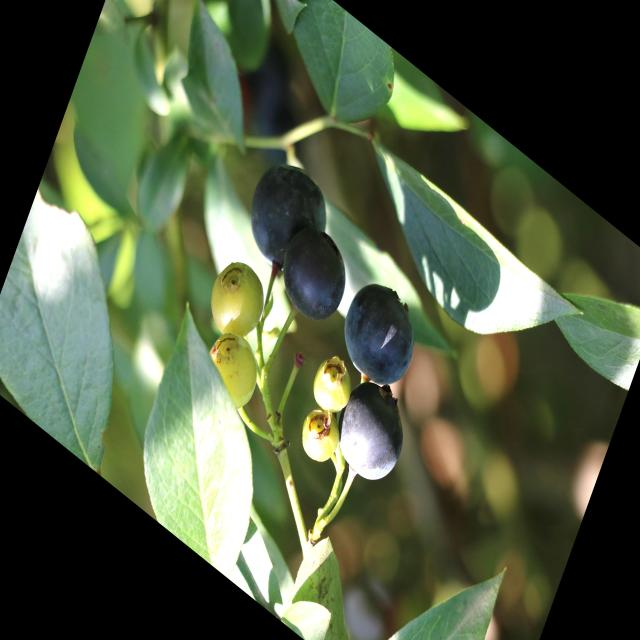blueberry: (236, 143, 339, 292), (333, 269, 427, 404), (325, 371, 414, 500), (270, 213, 356, 338)
blueberry-unripe: (201, 245, 275, 354), (198, 317, 267, 417), (304, 343, 361, 429), (292, 396, 347, 476)
